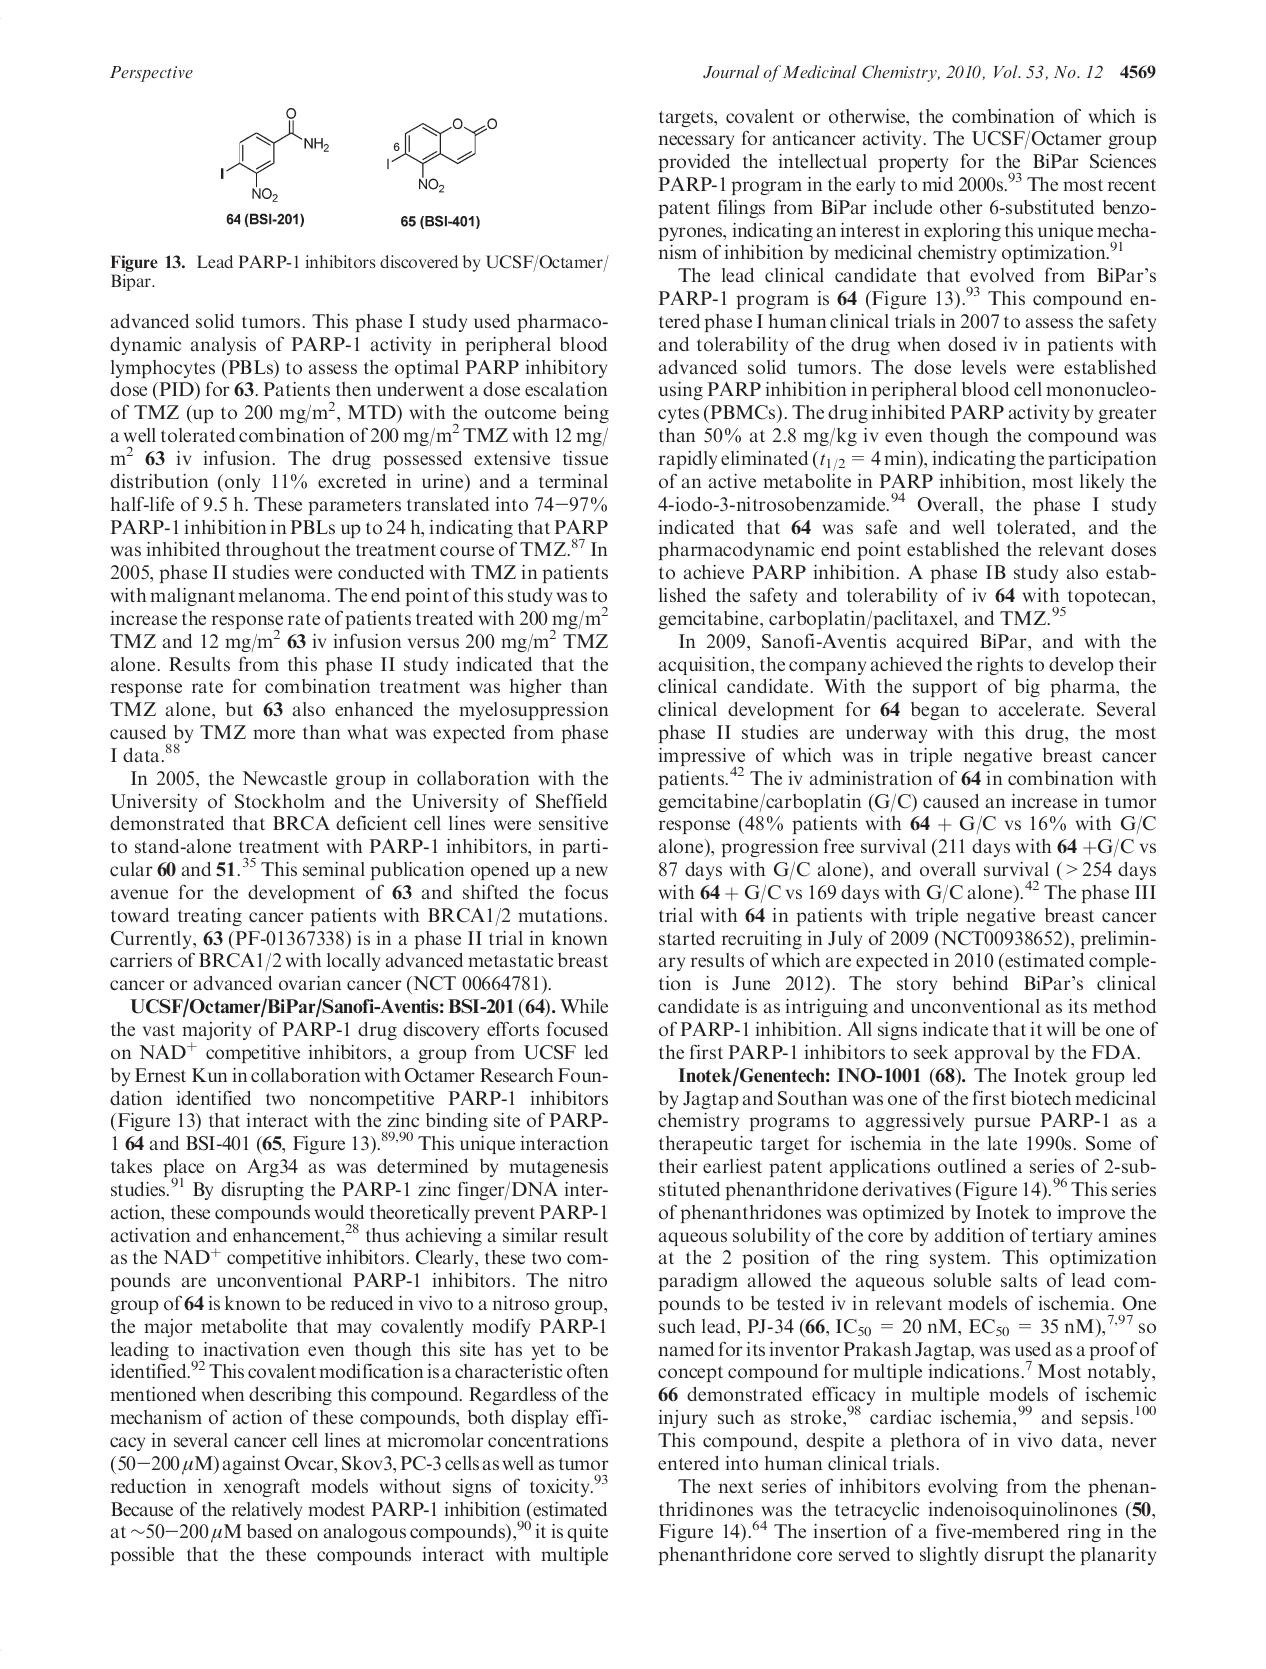exist_molecular: (215, 104, 332, 203), (382, 116, 499, 193)
